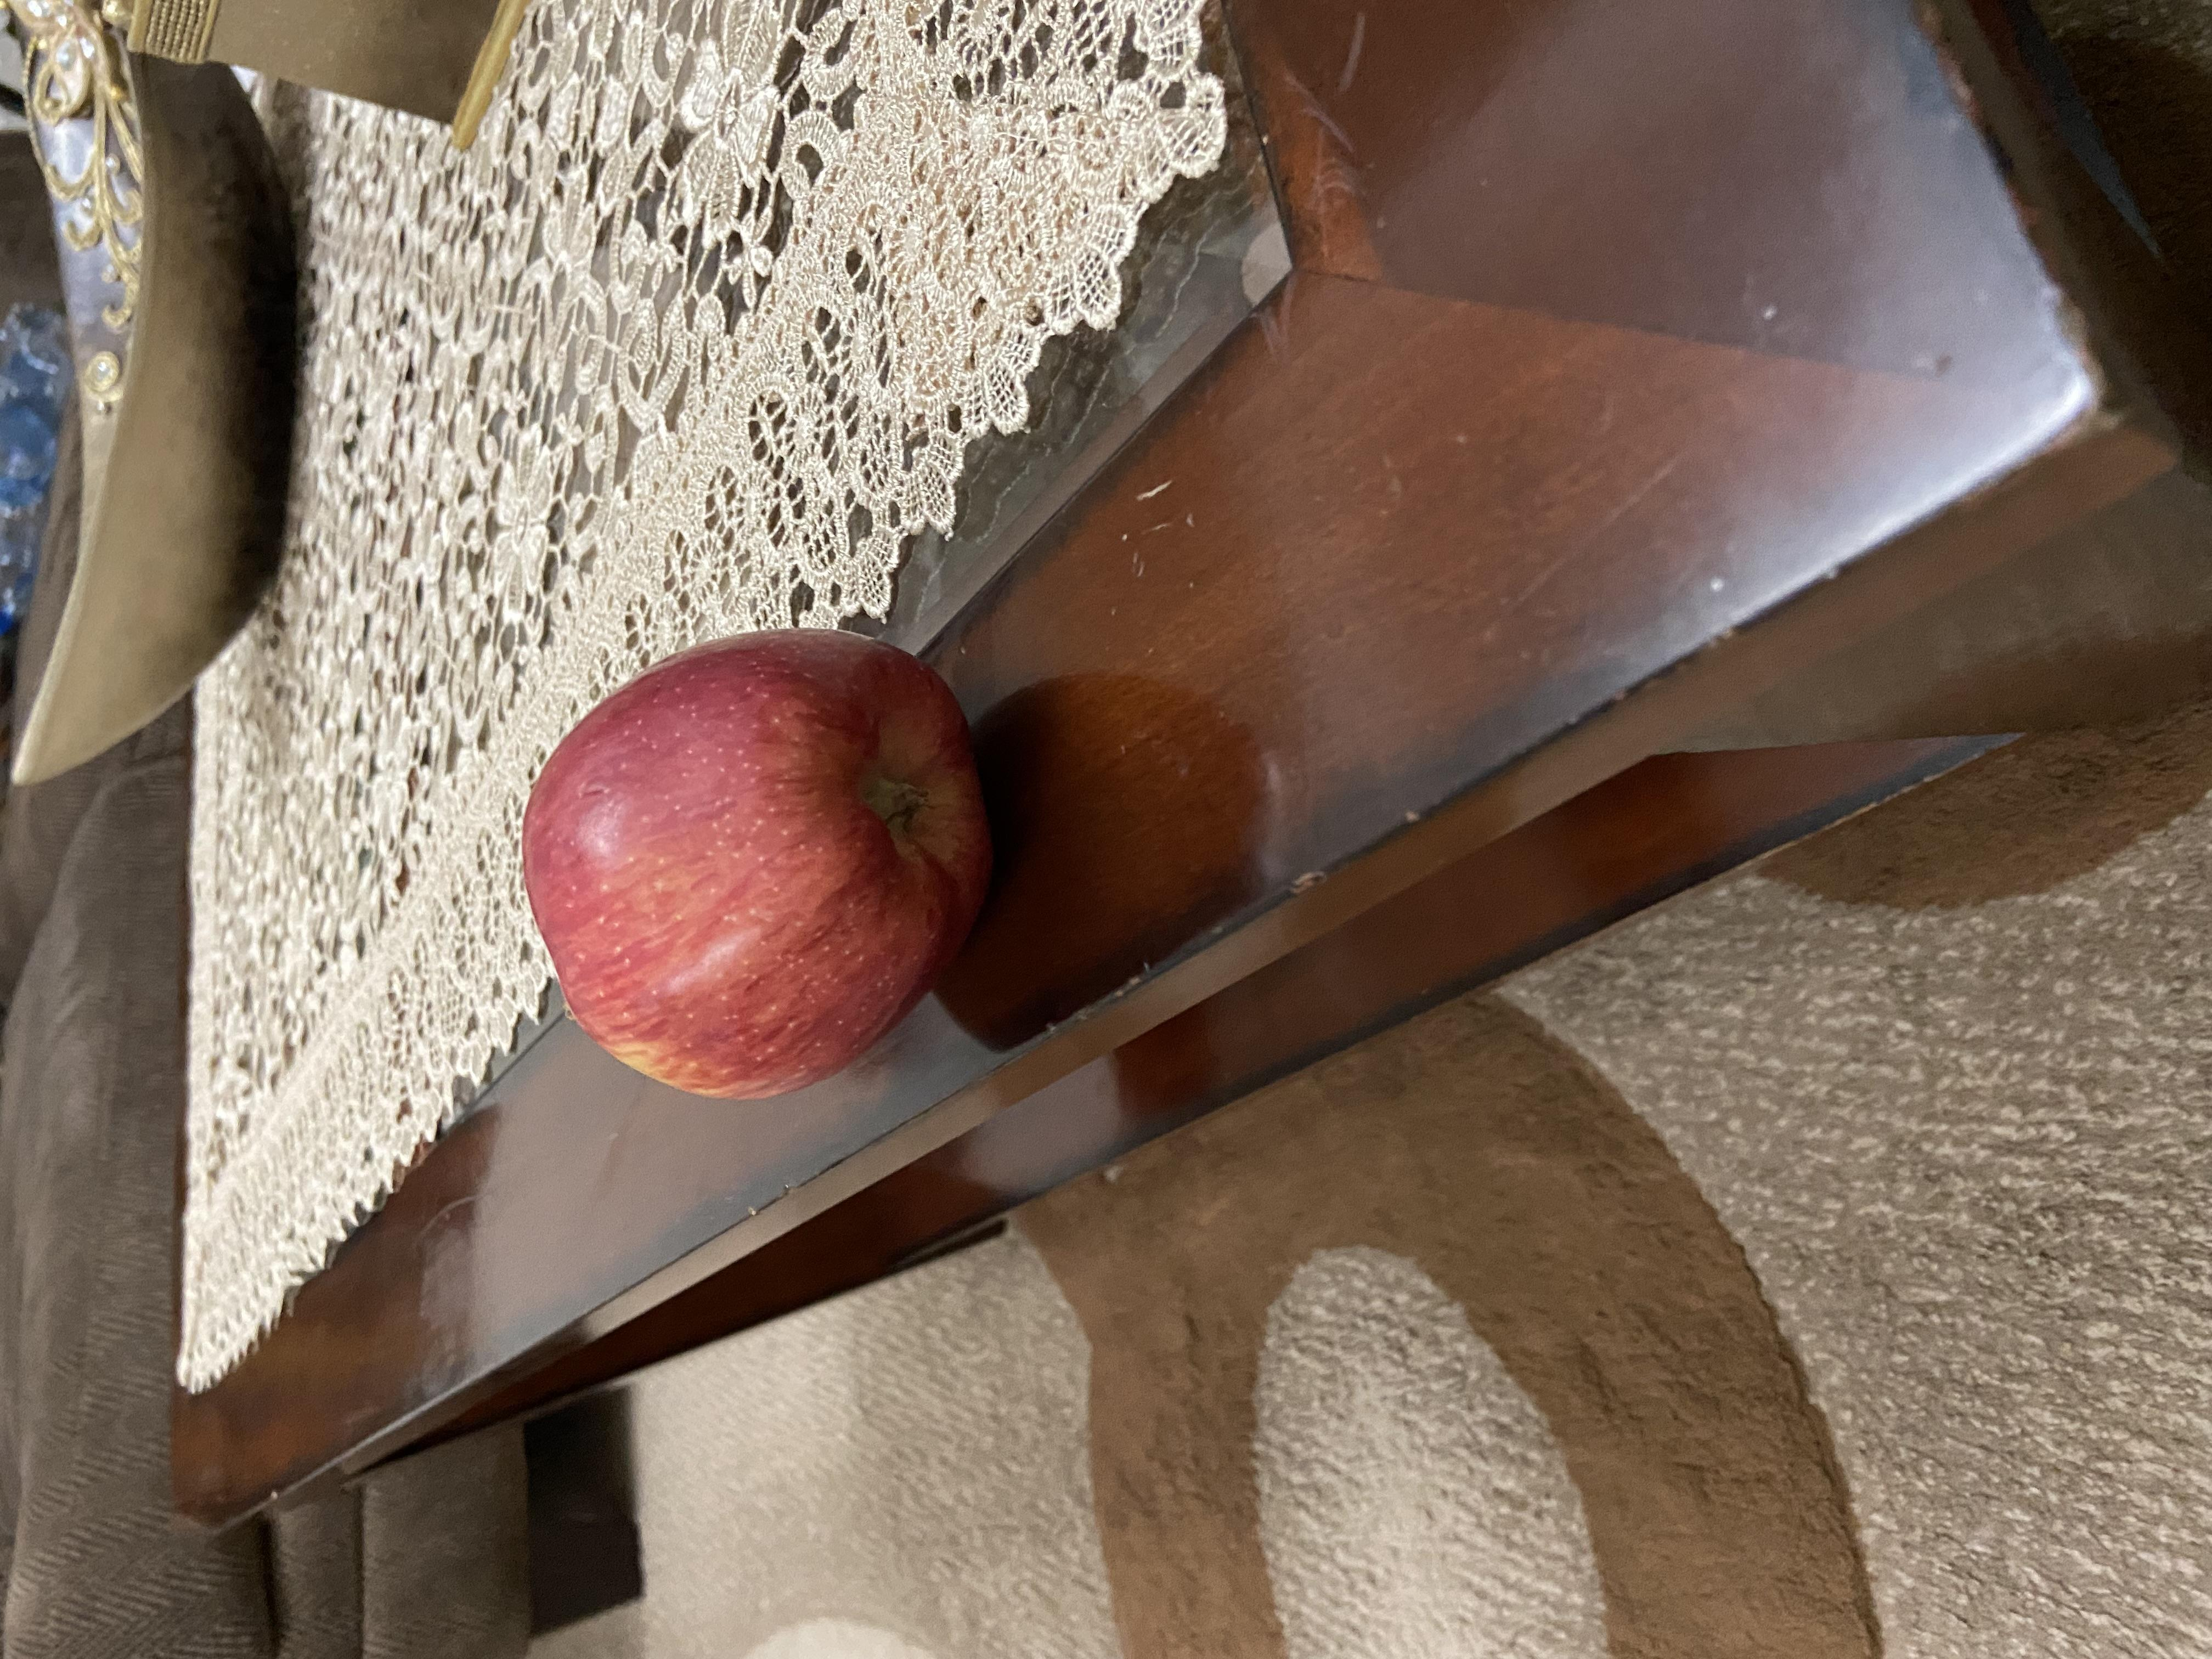Apple: (742, 375, 1390, 753)
